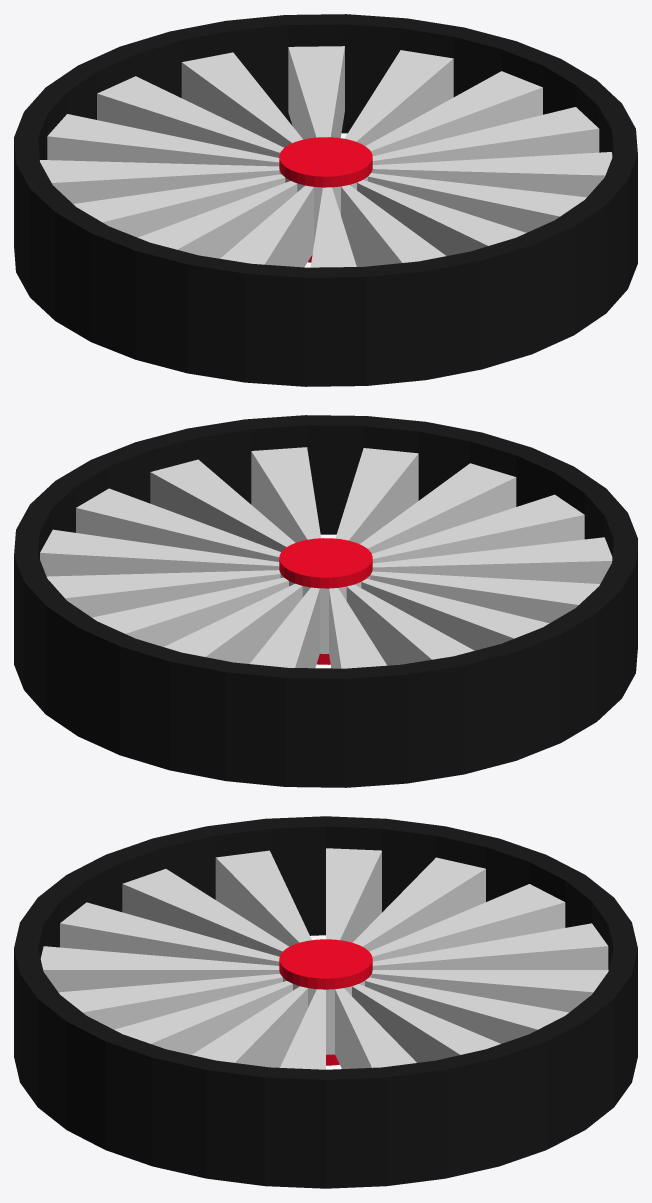
Rendered from MattWheel.dae.
3 views of the same model, one above another, from view 1: azimuth 30°, elevation 25°; view 2: azimuth 150°, elevation 25°; view 3: azimuth 270°, elevation 25° (orthographic).
Visible parts, largest first — view 1: MattWheel; view 2: MattWheel; view 3: MattWheel.
Boxes of the visible parts, x1,y1,x2,y2 form: MattWheel: [14, 14, 637, 386]; MattWheel: [14, 415, 637, 787]; MattWheel: [14, 816, 637, 1188].
Bounding box in the file's own units: 0.26 × 0.26 × 0.05.
